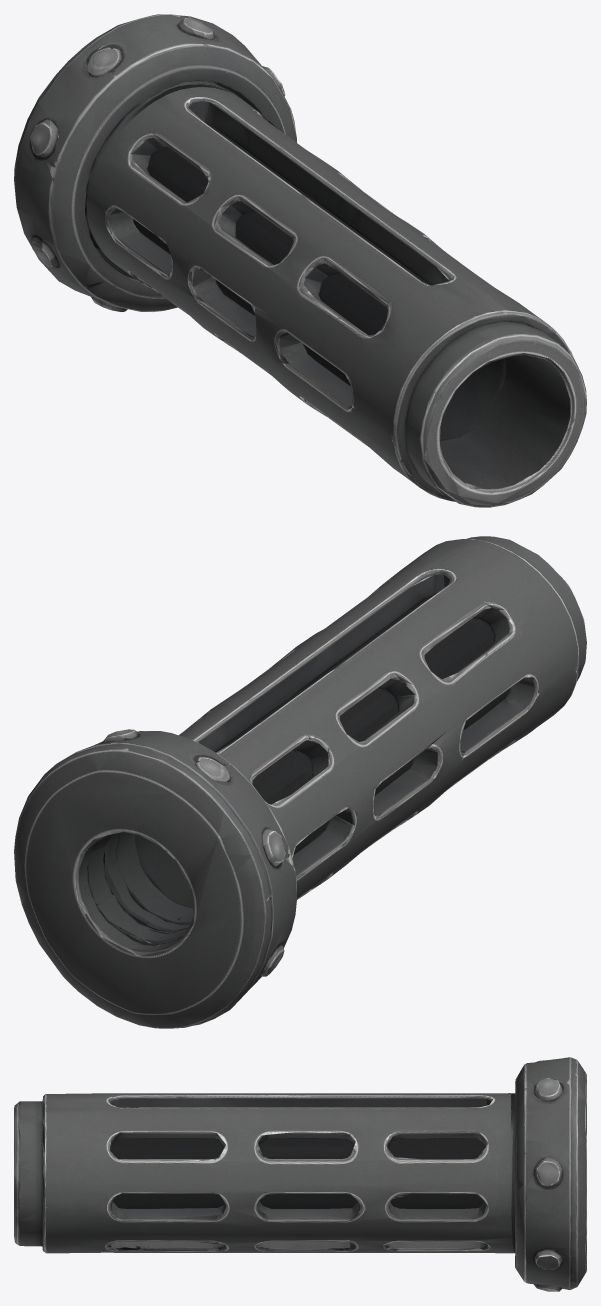
Rendered from shared_flak_tower_large_option__barrel.glb.
3 views of the same model, one above another, from view 1: azimuth 30°, elevation 25°; view 2: azimuth 150°, elevation 25°; view 3: azimuth 270°, elevation 25° (orthographic). The views are drawn at different scales.
Visible parts, largest first — view 1: mesh_node; view 2: mesh_node; view 3: mesh_node.
Boxes of the visible parts, x1,y1,x2,y2 form: mesh_node: [14, 14, 586, 507]; mesh_node: [14, 536, 586, 1028]; mesh_node: [14, 1057, 586, 1291].
Size of the model in its own units: 1 by 1.03 by 2.5.
1 material, 1 textured.
